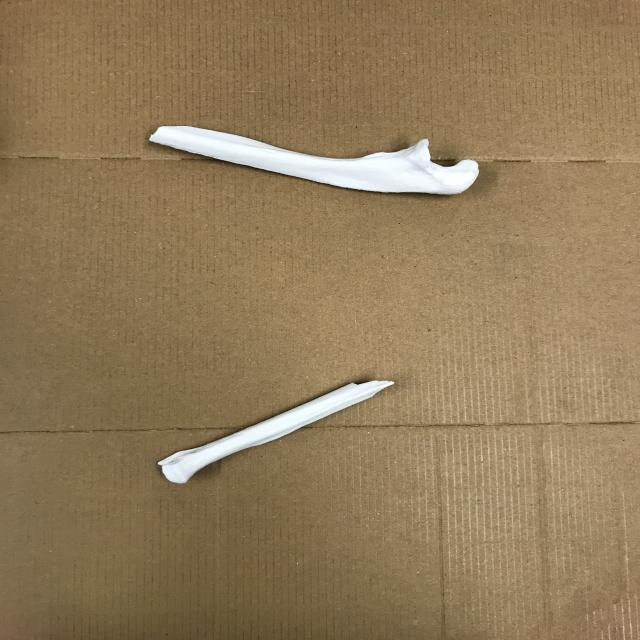bone: (156, 374, 404, 489), (150, 118, 483, 202)
